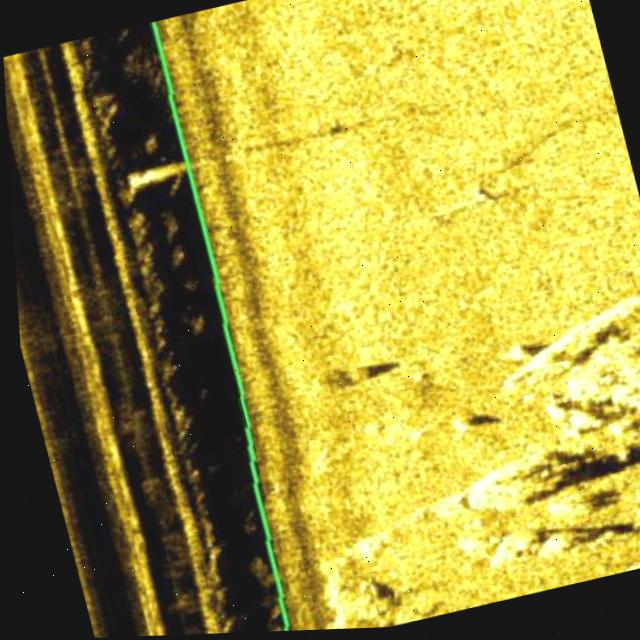bedrock group: (258, 293, 640, 633)
